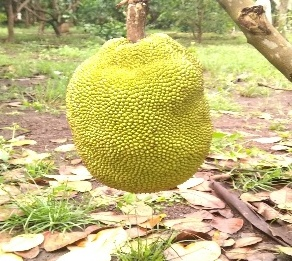Mit: (68, 43, 210, 189)
